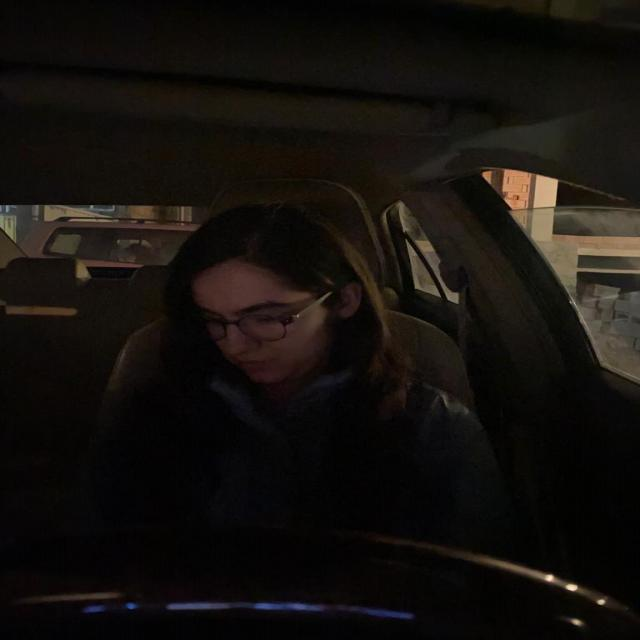drowsy: (170, 225, 382, 404)
